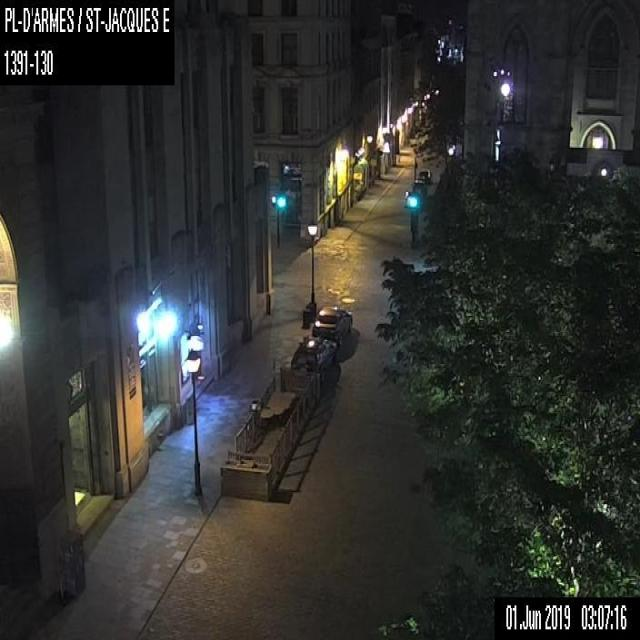vehicle: (290, 336, 337, 378), (312, 306, 352, 345), (418, 168, 432, 182)
